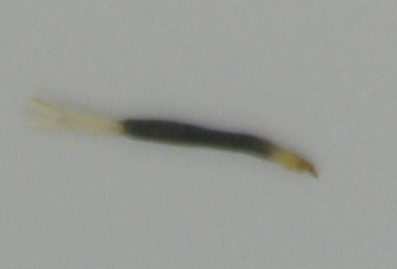เมล็ดงอกแตก: (21, 95, 321, 180)
